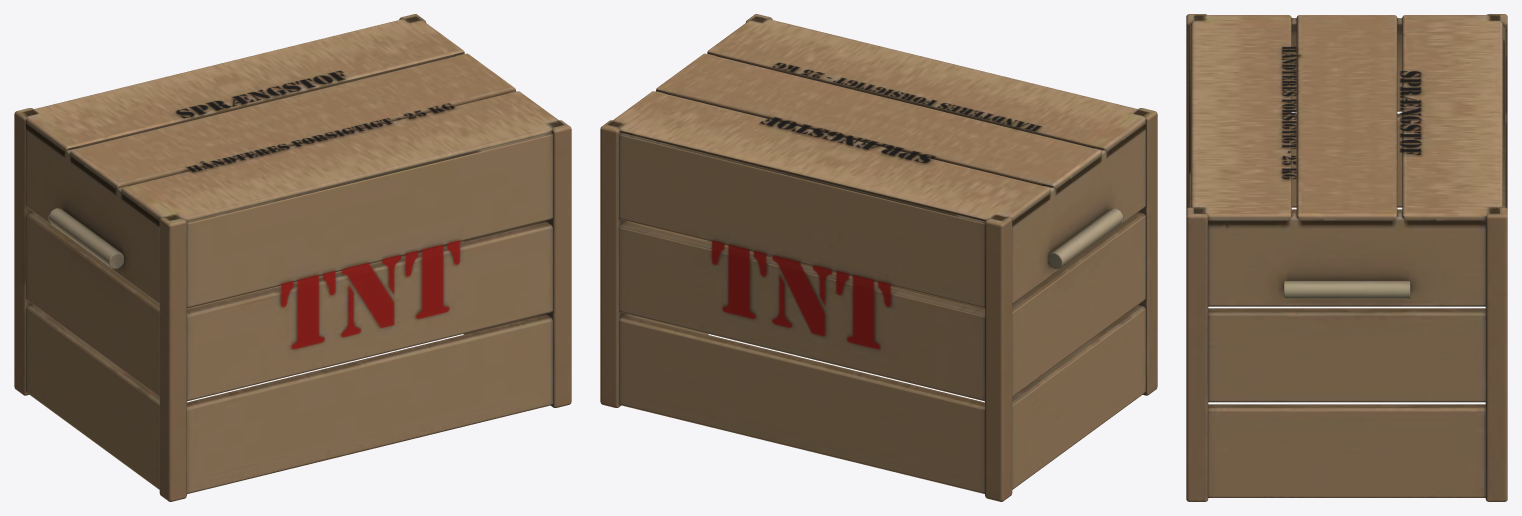
The model's file is tntkasse.glb.
3 views of the same model, side by side, from view 1: azimuth 30°, elevation 25°; view 2: azimuth 150°, elevation 25°; view 3: azimuth 270°, elevation 25° (orthographic). The views are drawn at different scales.
Parts seen in each view (by area): view 1: tntkasse, tnt, sort; view 2: tntkasse, tnt2, sort; view 3: tntkasse, sort.
Boxes of the visible parts, x1,y1,x2,y2 form: tntkasse: (14,14,571,501); tnt: (280,240,460,349); sort: (176,70,454,172); tntkasse: (600,14,1157,501); tnt2: (711,240,891,349); sort: (759,62,1041,162); tntkasse: (1186,14,1507,501); sort: (1281,46,1421,179).
Size of the model in its own units: 0.6428 by 0.402 by 0.406.
Materials: 3 (3 with a texture image).
